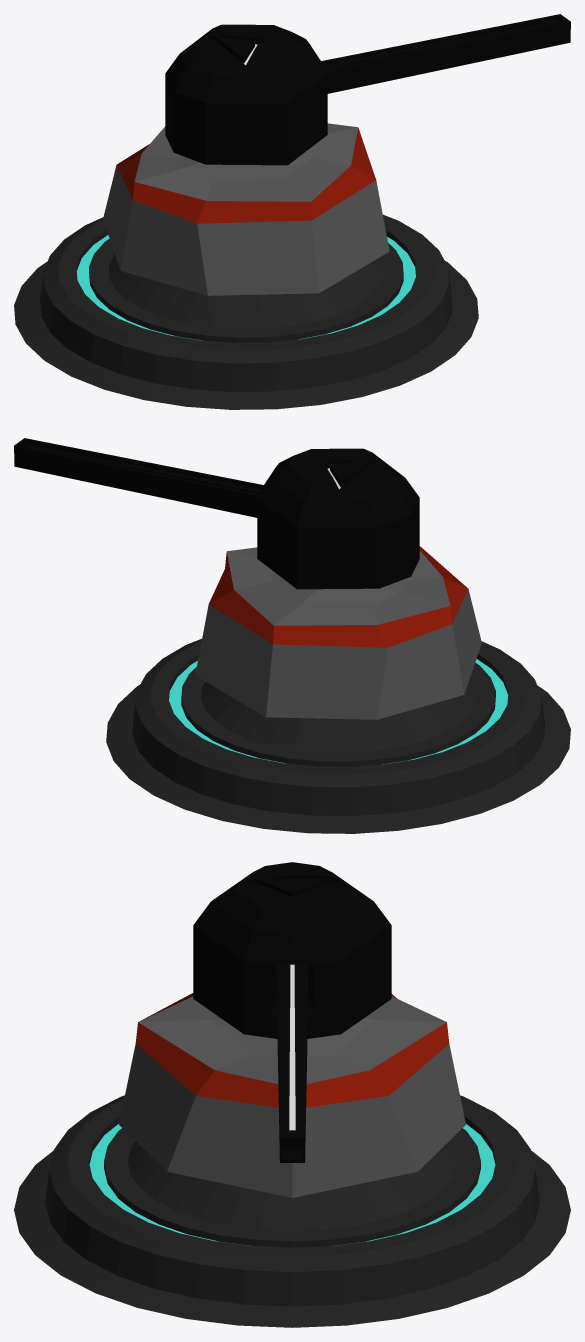
Rendered from RTS自动炮台.fbx.
The picture shows the model from 3 angles, top to bottom: view 1: azimuth 30°, elevation 25°; view 2: azimuth 150°, elevation 25°; view 3: azimuth 270°, elevation 25°; orthographic projection. The views are drawn at different scales.
Parts seen in each view (by area): view 1: Circle, Cube.001, Cube.002, Cube.003; view 2: Circle, Cube.001, Cube.002, Cube.003; view 3: Circle, Cube.001, Cube.002, Cube.003.
Boxes of the visible parts, left/top/right/bottom form: Circle: left=14, top=214, right=478, bottom=409; Cube.001: left=103, top=123, right=389, bottom=295; Cube.002: left=165, top=24, right=327, bottom=165; Cube.003: left=321, top=14, right=570, bottom=93; Circle: left=106, top=638, right=570, bottom=833; Cube.001: left=195, top=546, right=481, bottom=719; Cube.002: left=257, top=448, right=419, bottom=589; Cube.003: left=14, top=438, right=263, bottom=517; Circle: left=14, top=1095, right=570, bottom=1327; Cube.001: left=119, top=993, right=465, bottom=1197; Cube.002: left=193, top=862, right=391, bottom=1038; Cube.003: left=276, top=964, right=308, bottom=1162.
Size of the model in its own units: 434 by 214 by 336.
